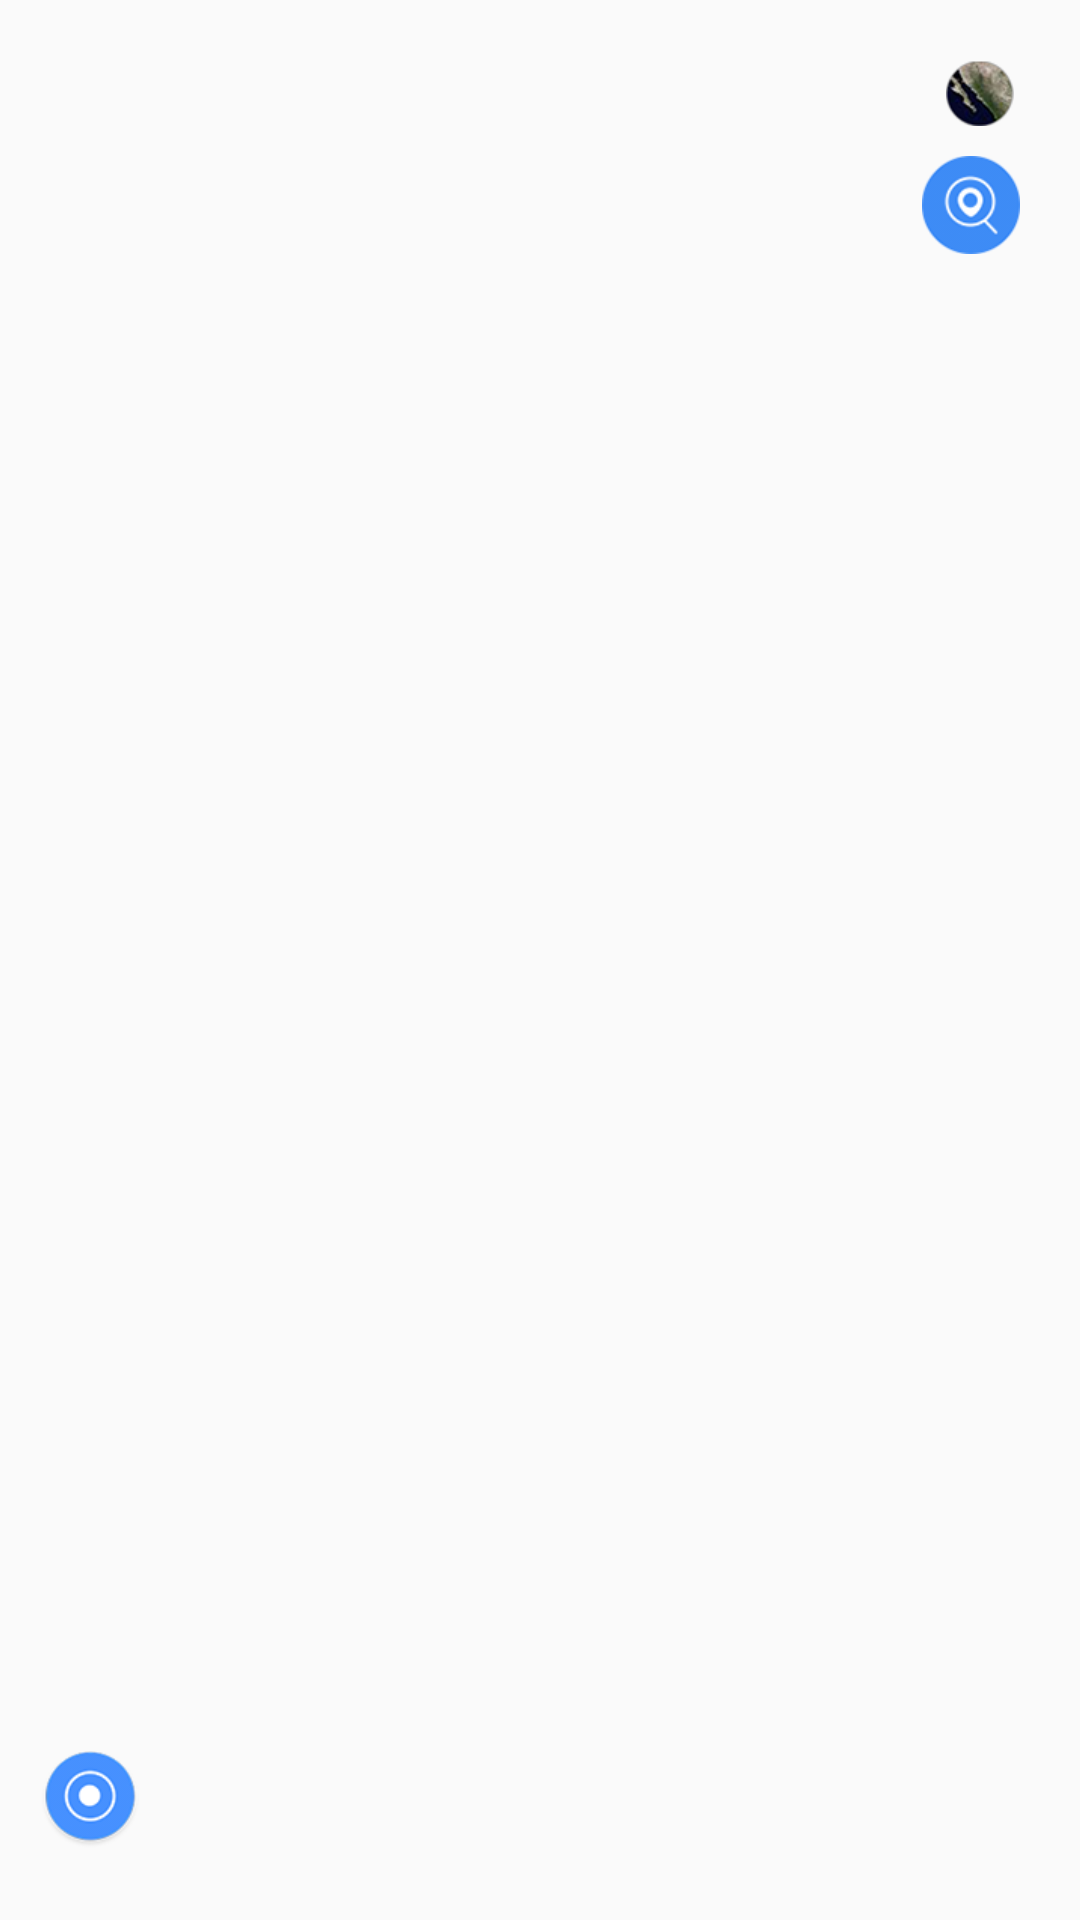

Where icons sit on this 1080px×1920px app screen, as (x1, y1, x2, y2):
location me: (45, 1751, 135, 1842)
location search: (922, 156, 1020, 254)
map type: (946, 61, 1014, 126)
